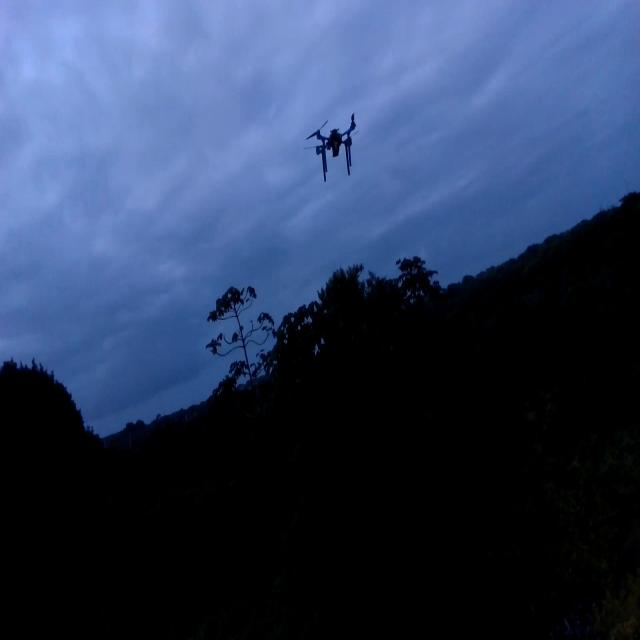-uav-: (300, 98, 367, 194)
